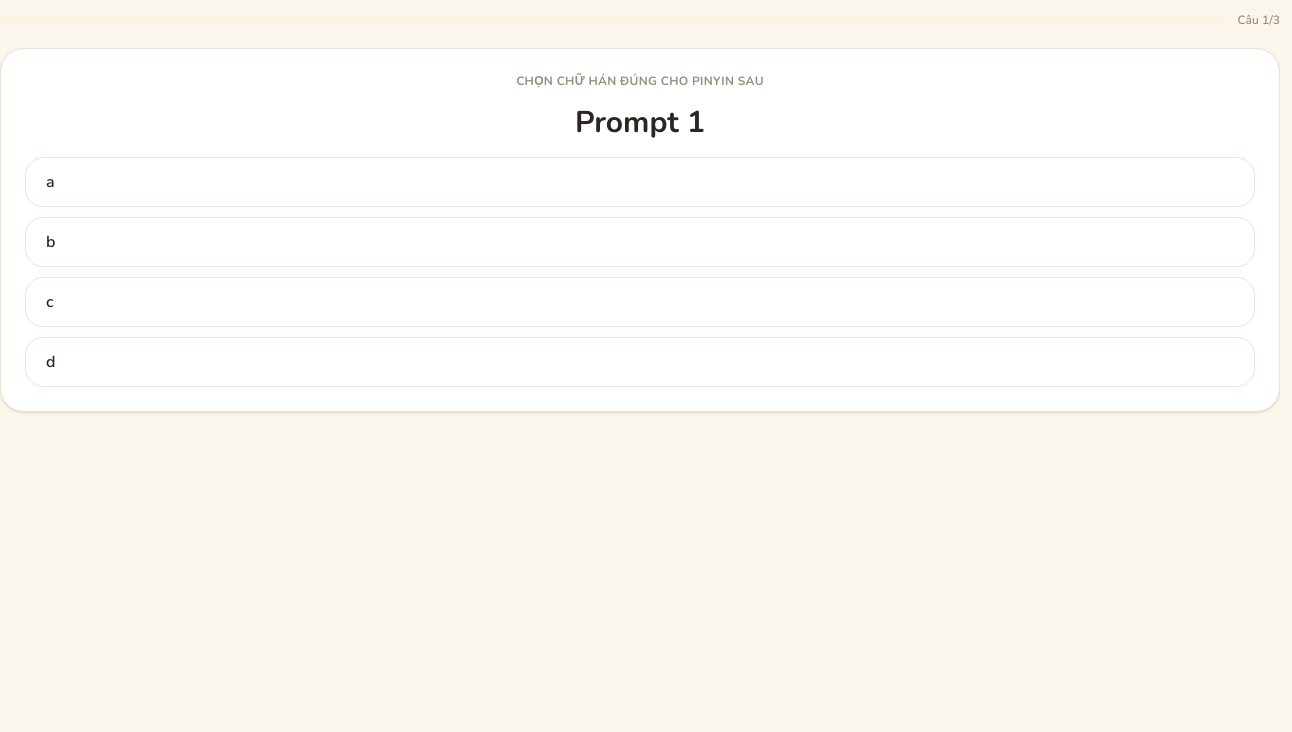
QuizPlayer › advances to the next question after answering and clicking Tiếp
Click the button "a".
click(50, 182)  # box [25, 157, 1255, 207]
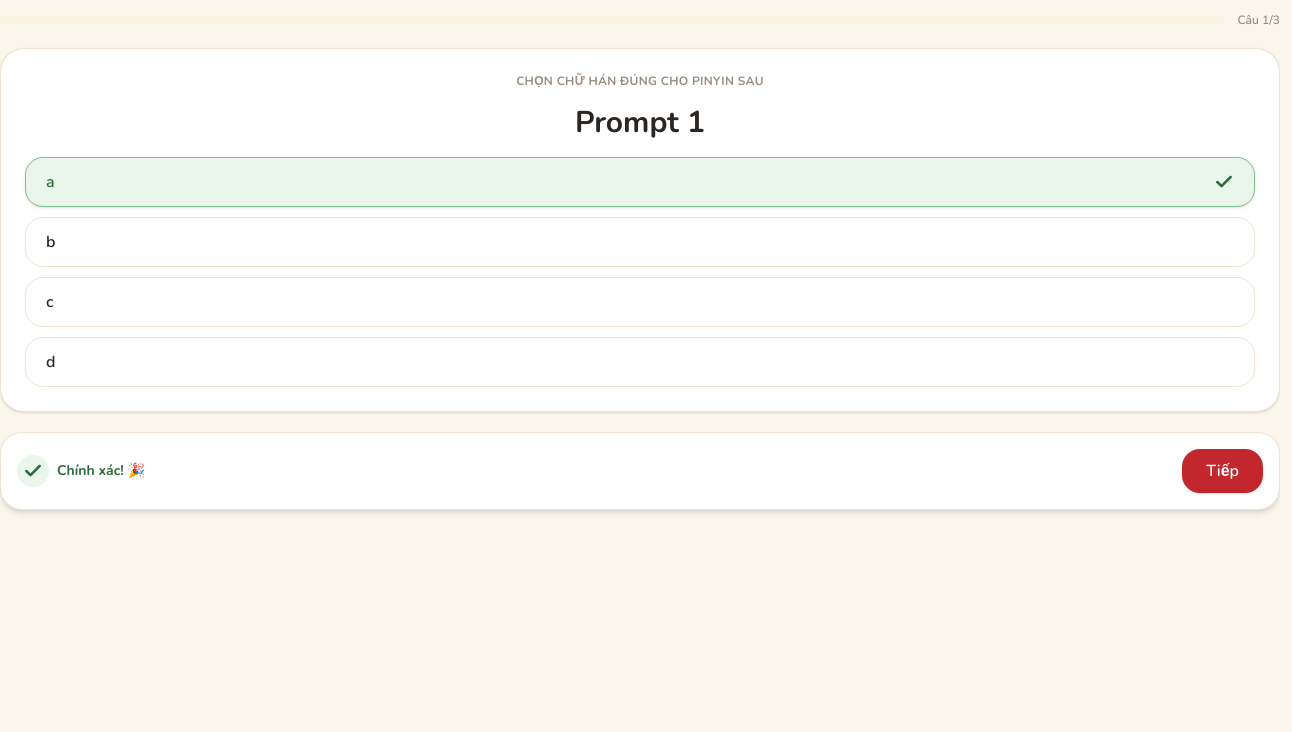
expect the button "Tiếp" is shown: met
Click the button "Tiếp".
click(1223, 471)  # box [1182, 449, 1263, 493]
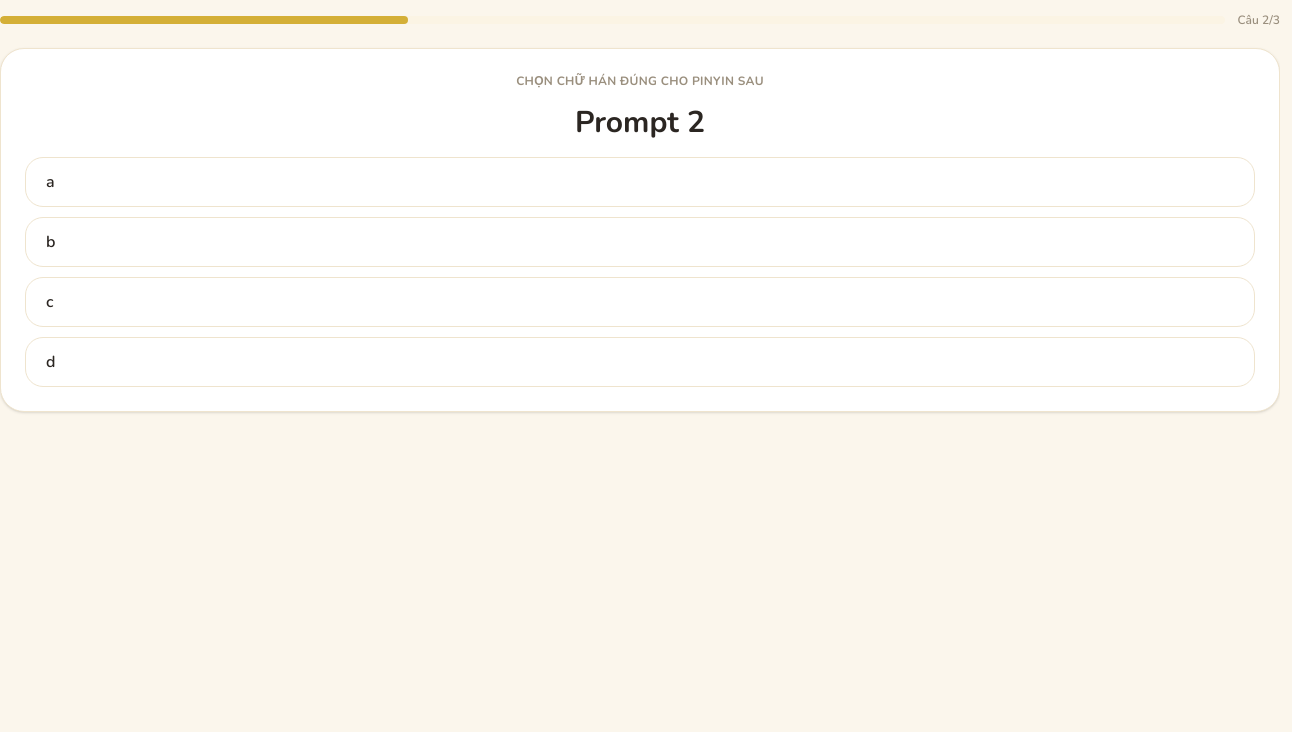
expect the text "Prompt 2" is shown: met, box [575, 102, 705, 143]
expect the text "Câu 2/3" is shown: met, box [1237, 12, 1280, 28]
